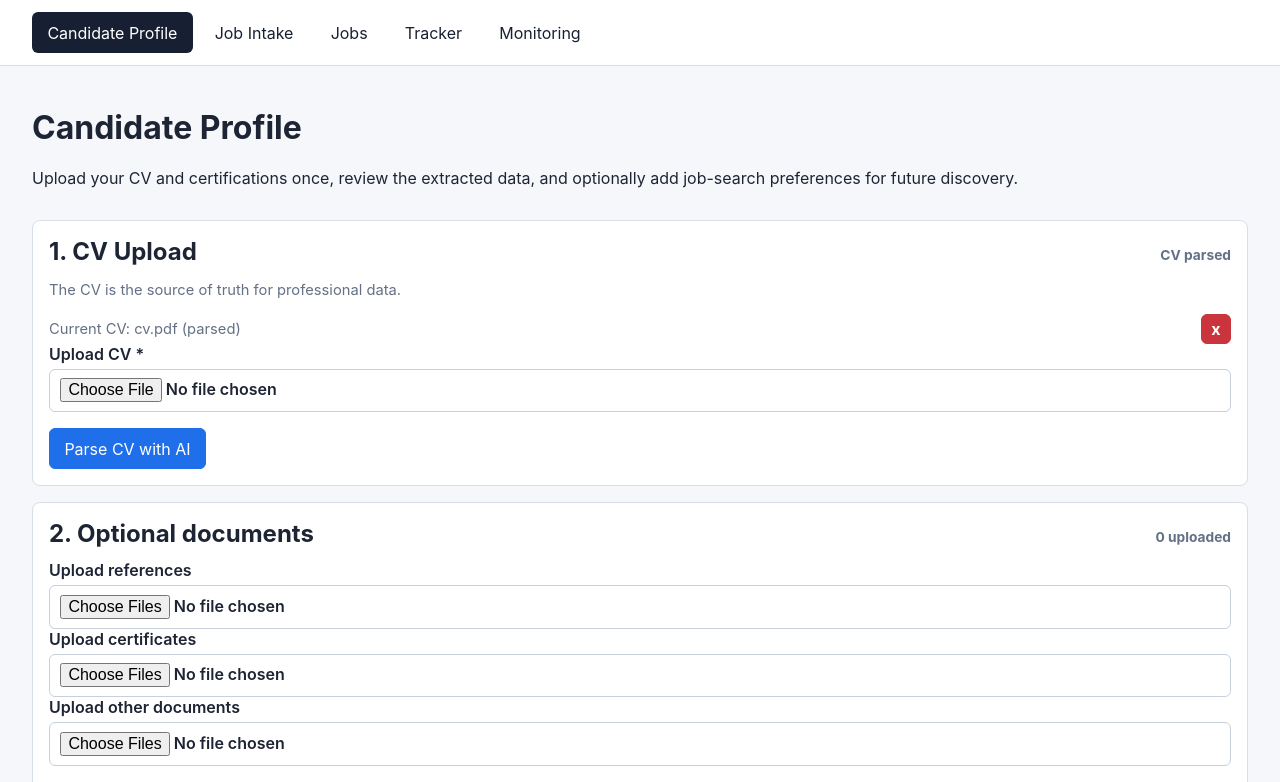
Test case: App workflow pages › shows tracker curated columns and filters
This screenshot has width=1280, height=782.
Click the button "Tracker".
click(433, 33)  # box [389,12,478,53]
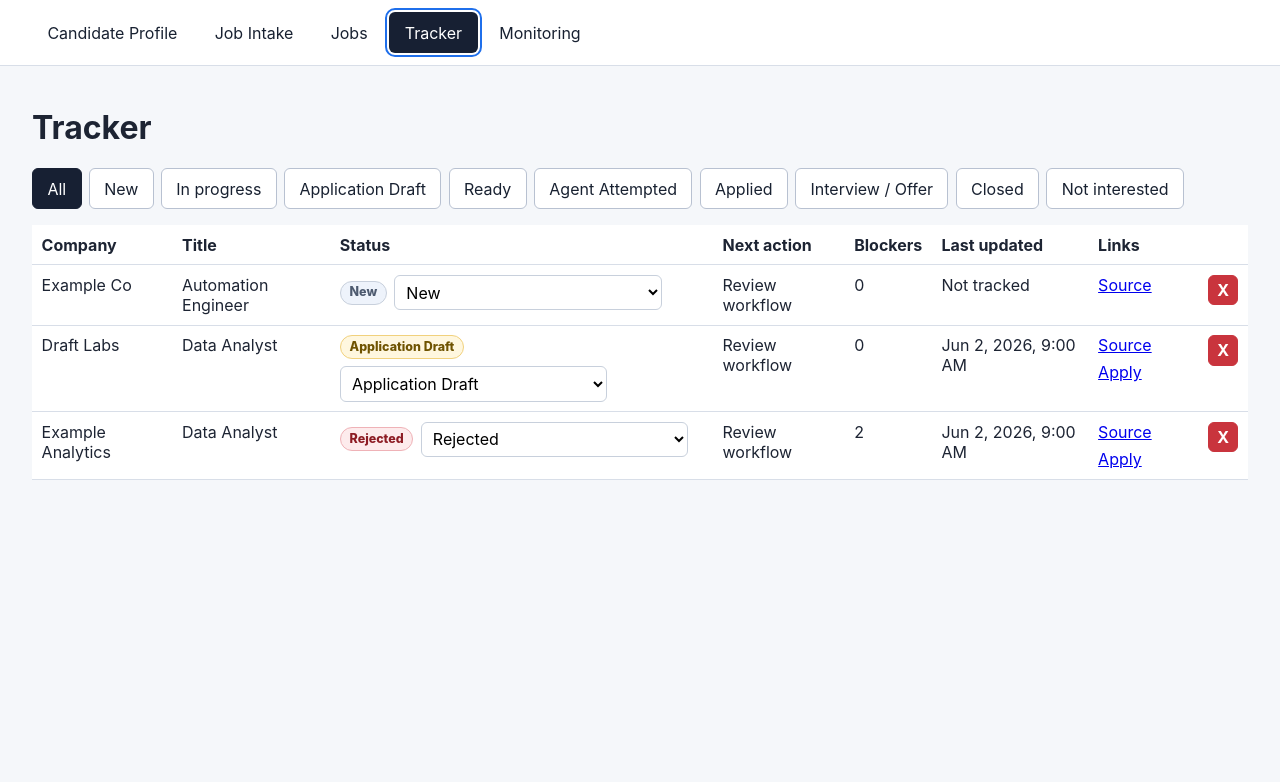
Now the column heading "Company" is shown, box [32,225,172,265]
Now the button "Application Draft" is shown
Click the button "Application Draft".
click(363, 189)  # box [284,168,441,209]
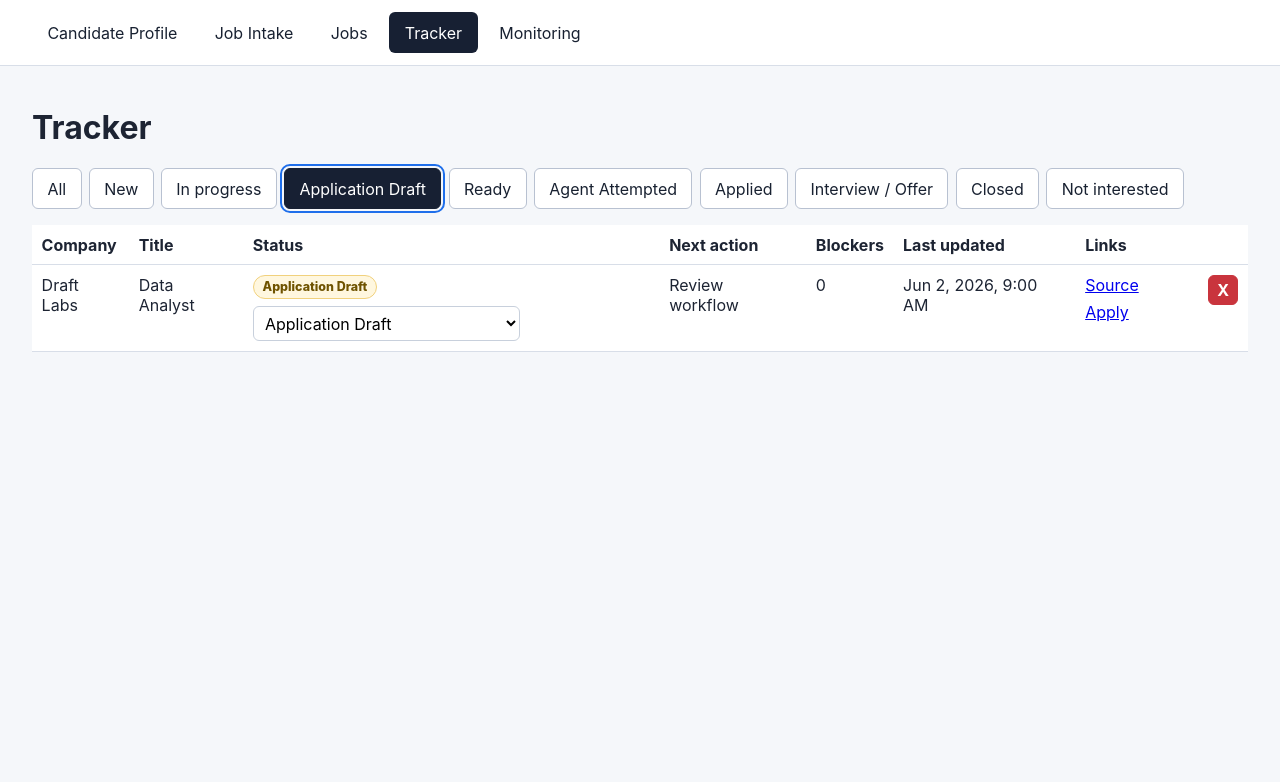
Now the text "Draft Labs" is shown, box [32,265,129,352]
Now the text "Example Co" is gone
Now the text "Example Analytics" is gone
Select "Interview" in the dropdown named "Status for Draft Labs / Data Analyst" at (386, 324), box [253,306,520,341]
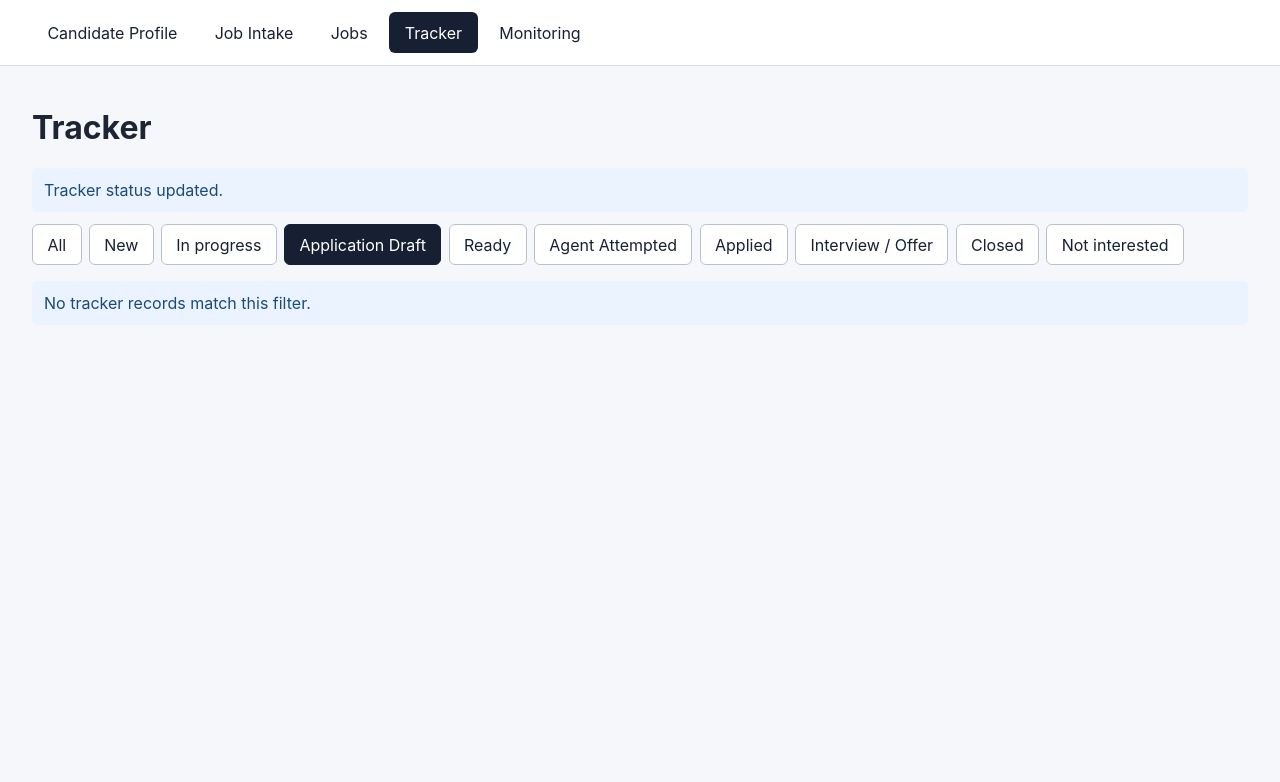
Now the text "Tracker status updated." is shown, box [32,168,1248,212]
Click the button "Interview / Offer".
click(872, 245)  # box [795,224,948,265]
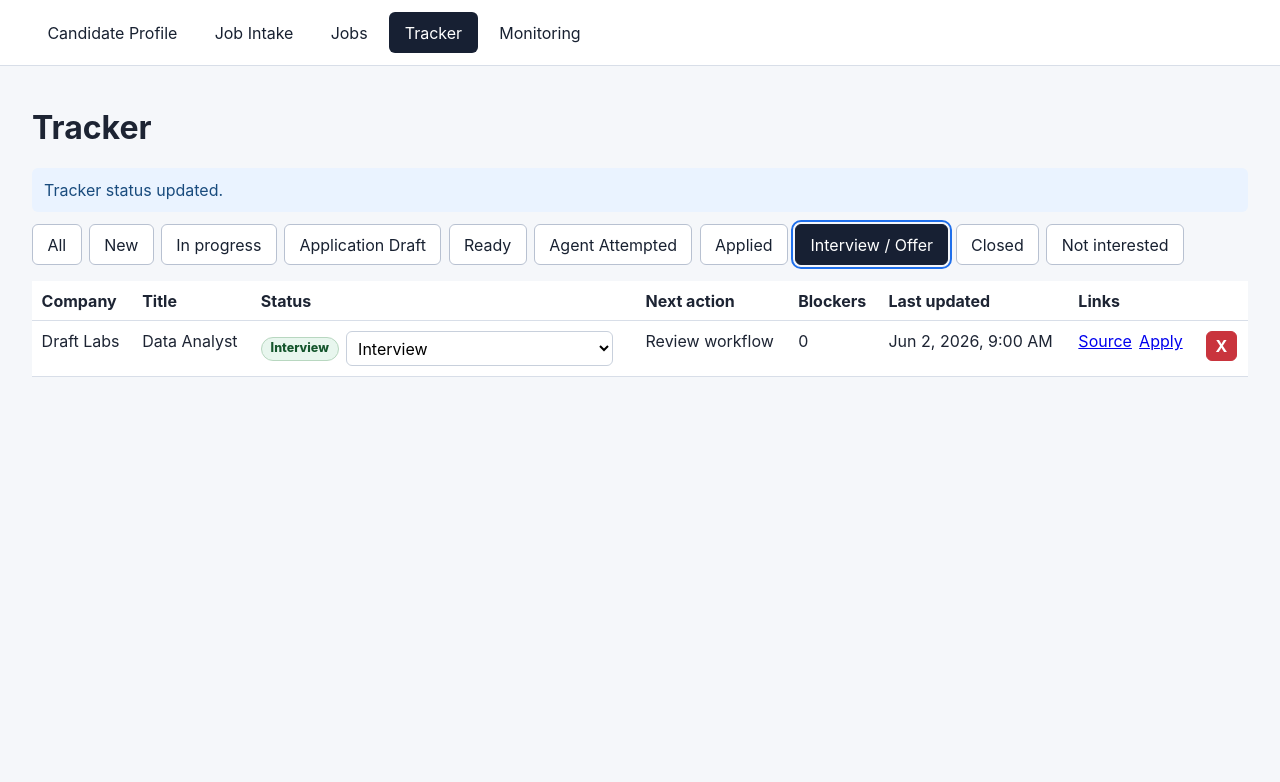
Now the text "Draft Labs" is shown, box [32,321,132,376]
Now the dropdown named "Status for Draft Labs / Data Analyst" shows "Interview", box [346,331,613,366]
Click the button "New".
click(121, 245)  # box [89,224,154,265]
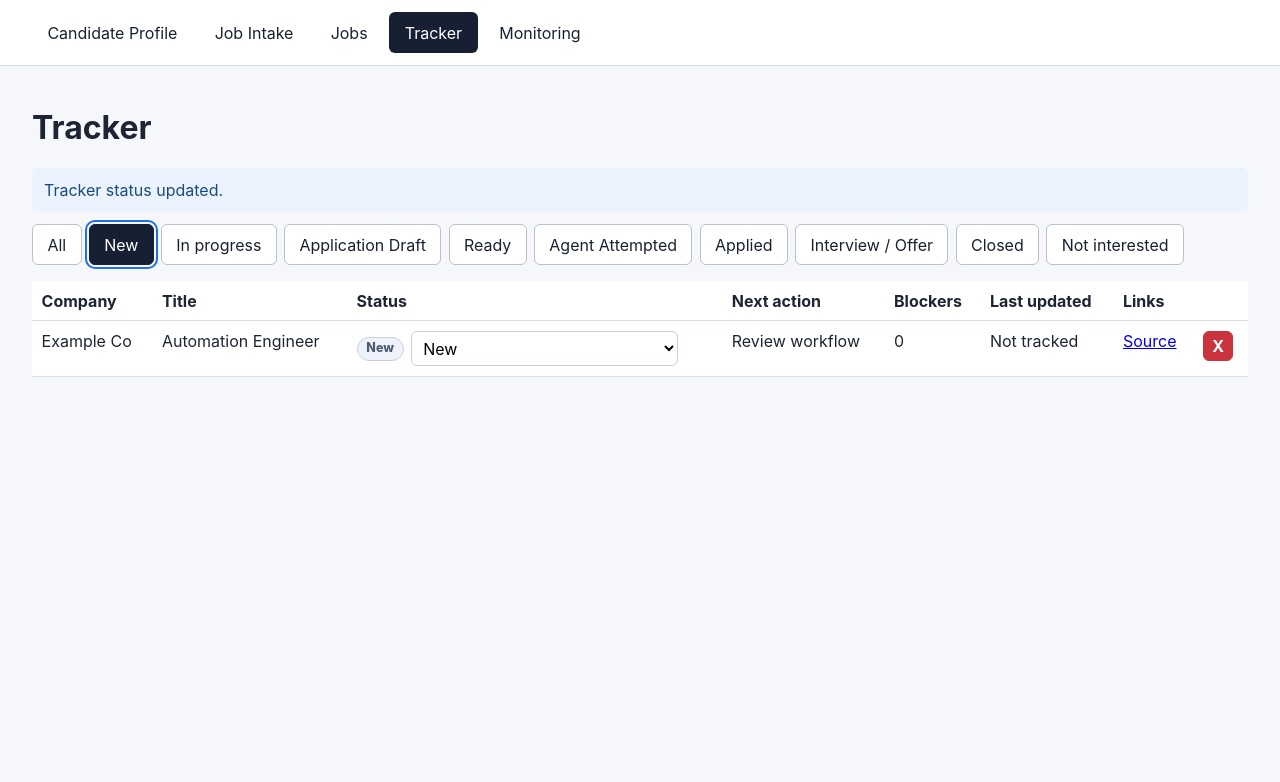
Now the text "Example Co" is shown, box [32,321,152,376]
Now the text "Draft Labs" is gone
Click the button "Closed".
click(997, 245)  # box [956,224,1039,265]
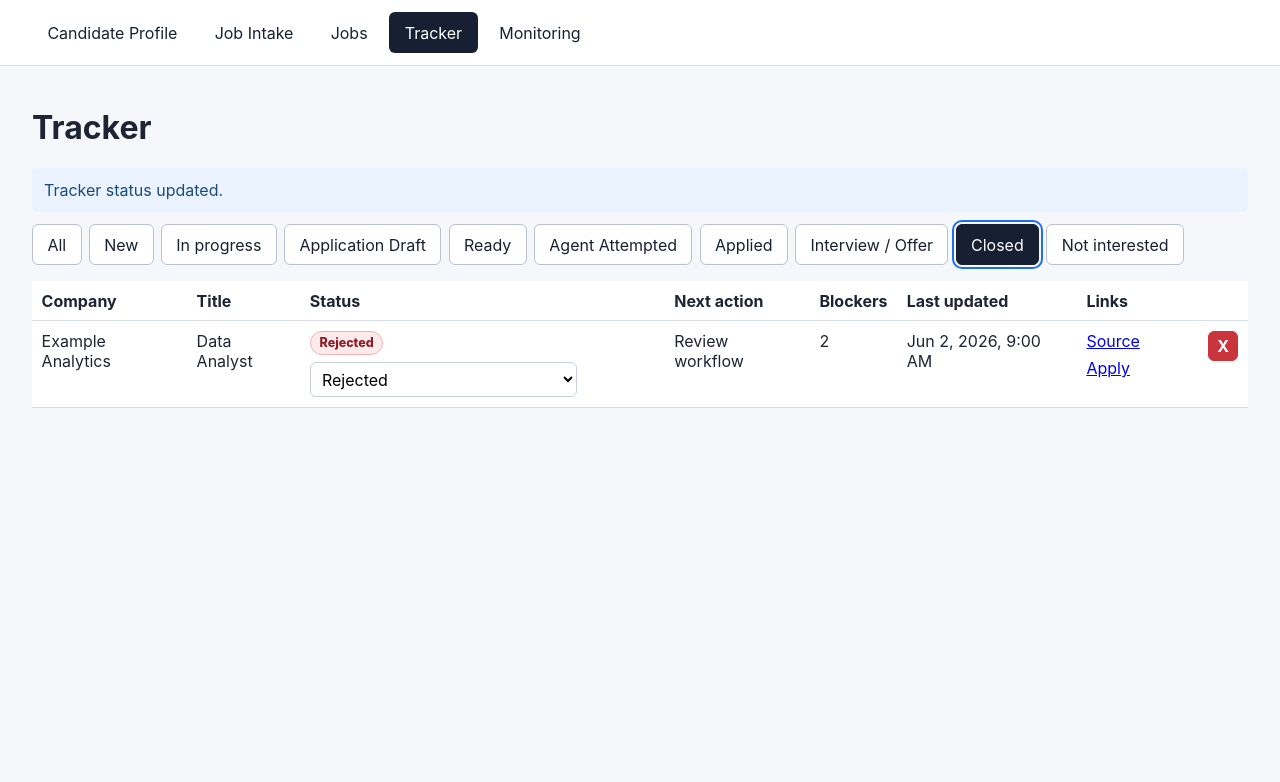
Now the text "Example Analytics" is shown, box [32,321,187,408]
Now the text "Example Co" is gone
